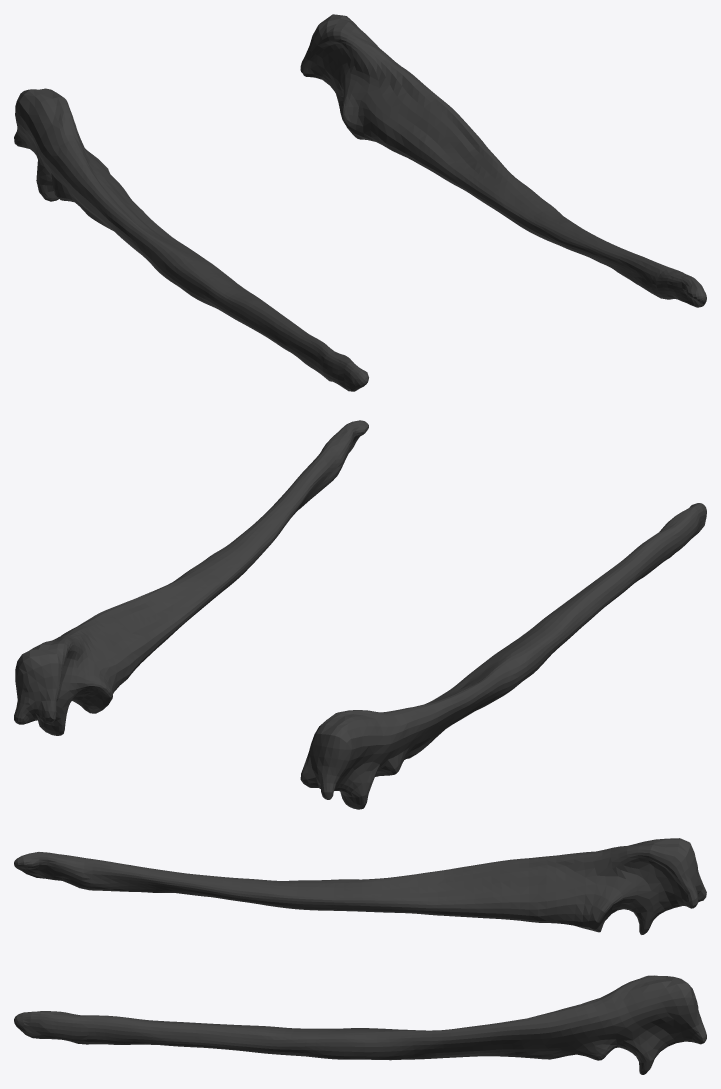
File: B_Ulna.glb
3 renders of one model, top to bottom at view 1: azimuth 30°, elevation 25°; view 2: azimuth 150°, elevation 25°; view 3: azimuth 270°, elevation 25°, orthographic. The views are drawn at different scales.
Parts seen in each view (by area): view 1: B_Ulna; view 2: B_Ulna; view 3: B_Ulna.
Part boxes in pixels (left/top/right/bottom): B_Ulna: left=14, top=14, right=706, bottom=391; B_Ulna: left=14, top=420, right=706, bottom=809; B_Ulna: left=14, top=838, right=706, bottom=1074.
Bounding box in the file's own units: 0.00801 × 0.00207 × 0.014.
Materials: 1 (1 with a texture image).
